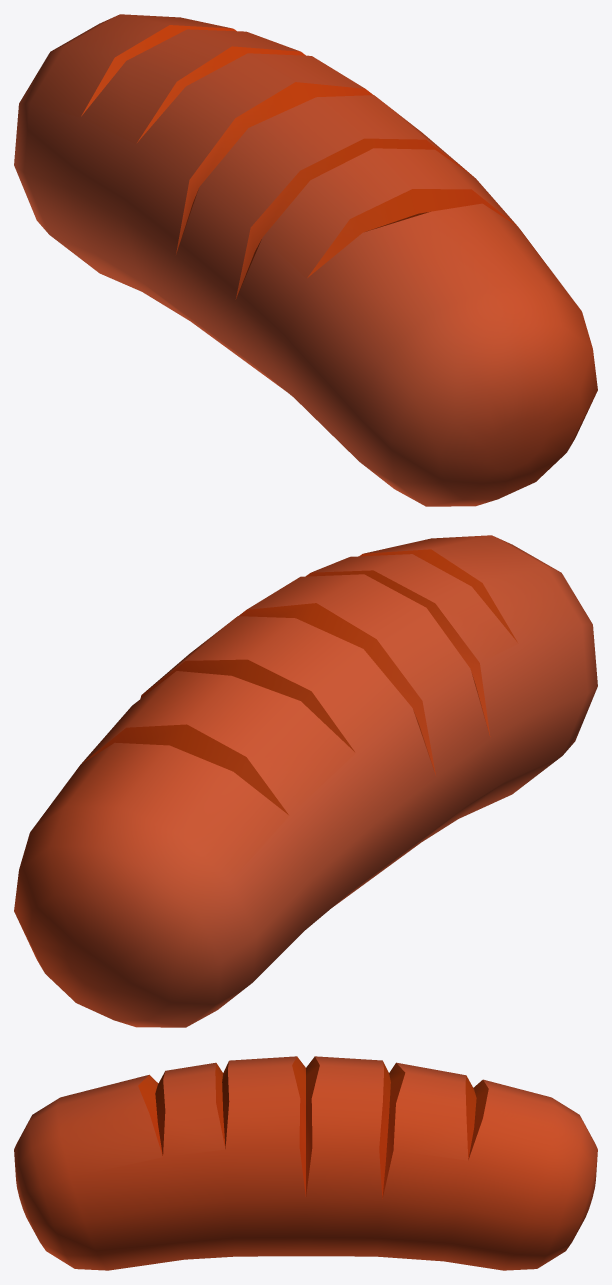
The model's file is Sausage_V1_01.fbx.
3 renders of one model, top to bottom at view 1: azimuth 30°, elevation 25°; view 2: azimuth 150°, elevation 25°; view 3: azimuth 270°, elevation 25°, orthographic. The views are drawn at different scales.
Visible parts, largest first — view 1: Sausage_V1_01; view 2: Sausage_V1_01; view 3: Sausage_V1_01.
Part boxes in pixels (x1=…): Sausage_V1_01: x1=14, y1=14, x2=597, y2=506; Sausage_V1_01: x1=14, y1=535, x2=597, y2=1027; Sausage_V1_01: x1=14, y1=1056, x2=597, y2=1270.
Size of the model in its own units: 18.13 by 19.5 by 52.47.
